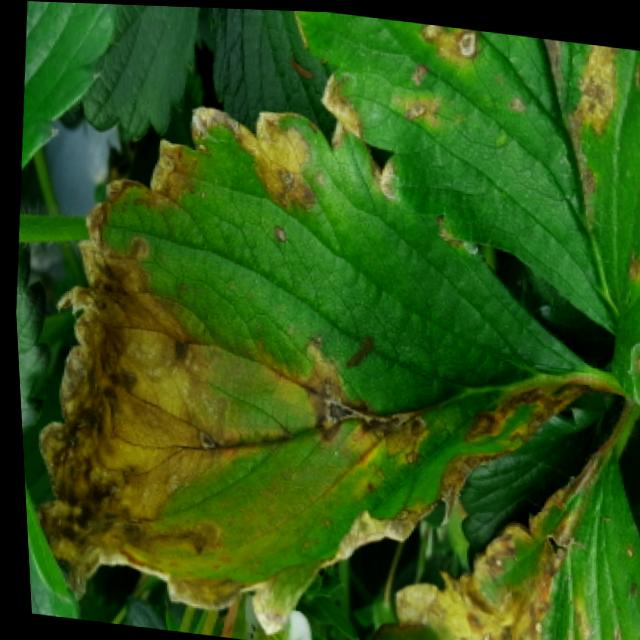Angular Leafspot: (30, 101, 613, 634), (294, 9, 640, 402), (357, 398, 640, 640)
